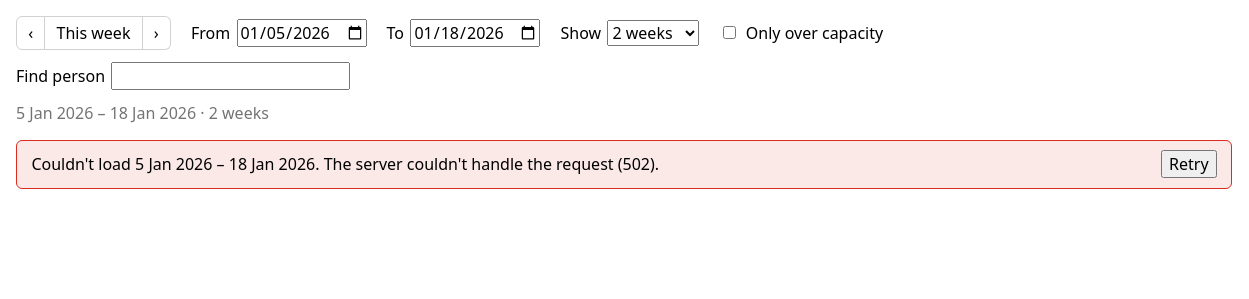
Test: shows a reachable error and a retry when the range fails to load
The width and height of the screenshot is (1249, 299).
Check: the message shows "The server couldn't handle the request (502)", box [324, 153, 659, 175]
Click the button "Retry": (1189, 164) [1161, 150, 1217, 178]
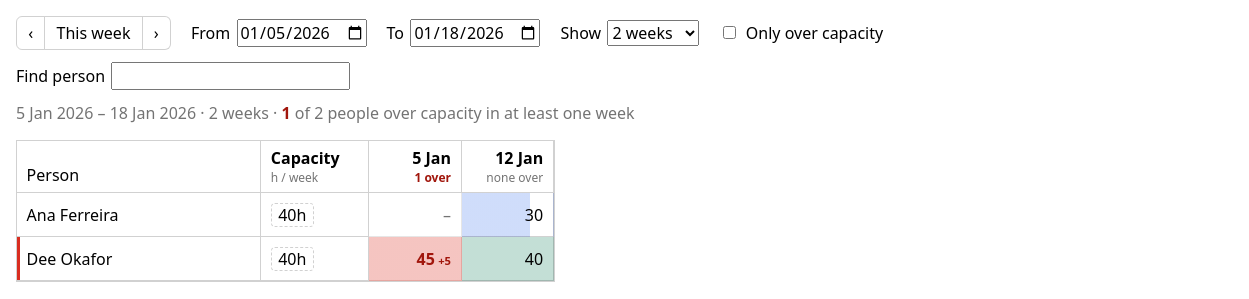
Check: the column heading "Dee Okafor" is shown, box [17, 237, 261, 281]
Check: the message is gone
